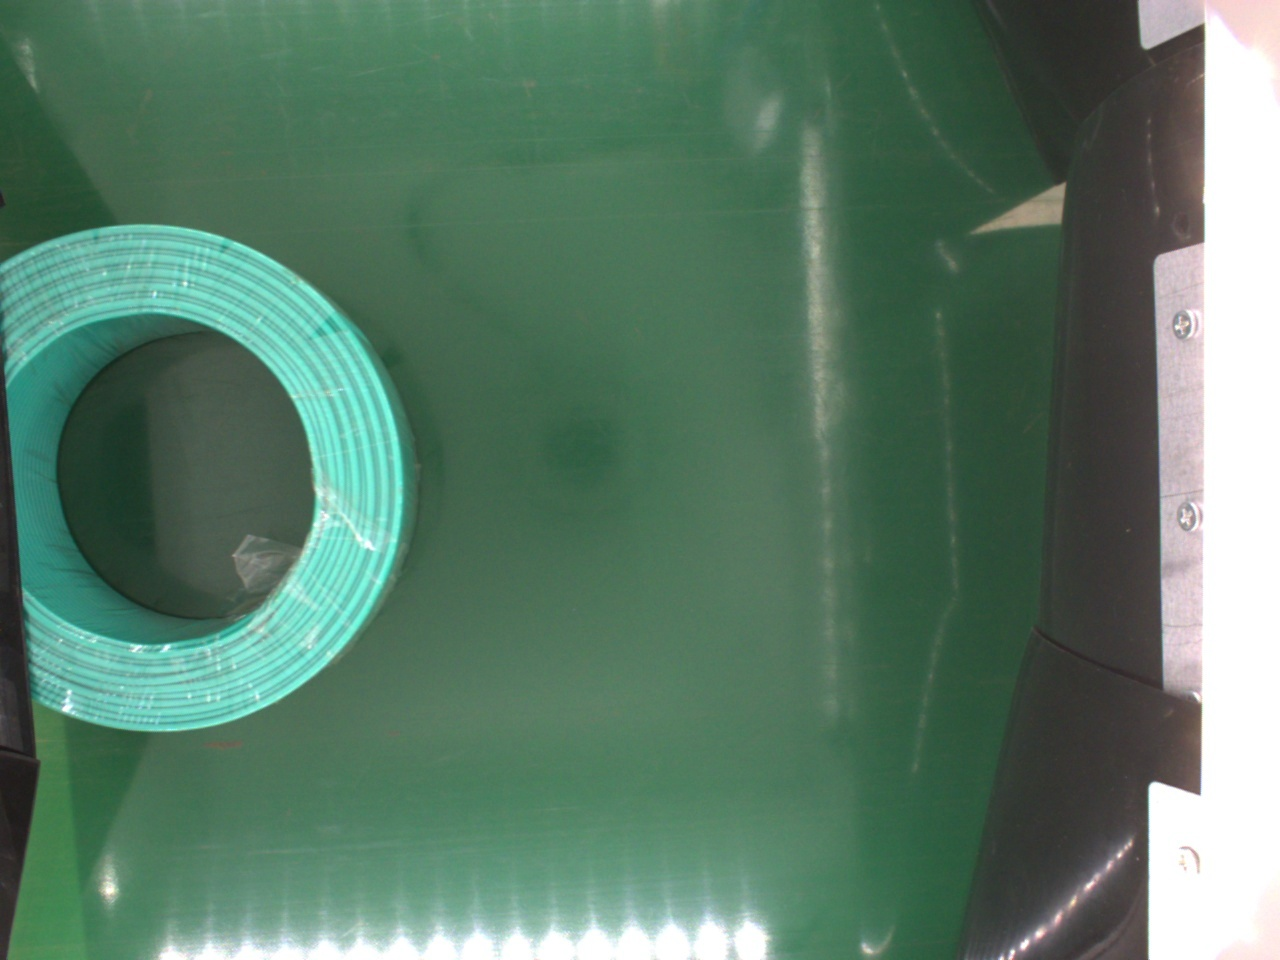green: (0, 221, 415, 738)
